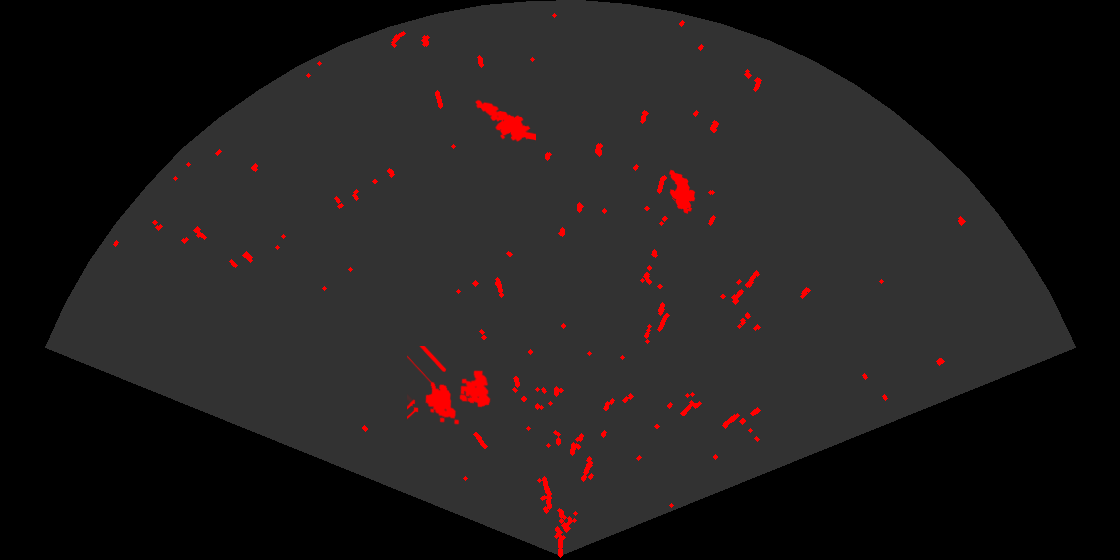AUV: (668, 168, 697, 215)
cage: (407, 346, 492, 426)
frogman: (474, 98, 536, 143)
